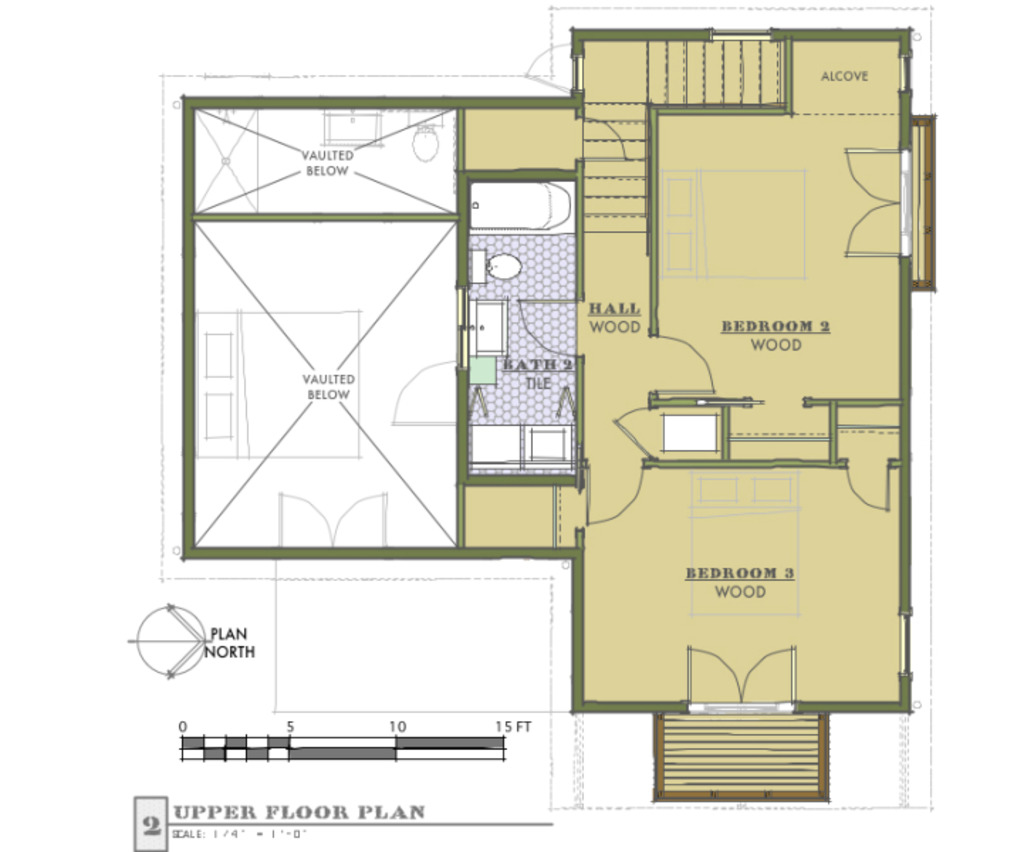bed: (190, 313, 370, 467), (663, 166, 813, 286), (689, 466, 801, 618)
door: (845, 144, 905, 264), (689, 641, 800, 705), (275, 489, 393, 547), (650, 330, 723, 396), (383, 362, 455, 428), (519, 299, 588, 360), (590, 458, 646, 528), (840, 458, 897, 515), (516, 47, 587, 92), (609, 404, 659, 462)
large_sink: (407, 106, 452, 175), (467, 247, 527, 286)
sink: (307, 106, 387, 153), (459, 296, 510, 358)
stairs: (579, 40, 802, 227), (646, 713, 828, 812)
tub: (470, 180, 575, 238)
window: (898, 613, 915, 667), (710, 30, 780, 43)
